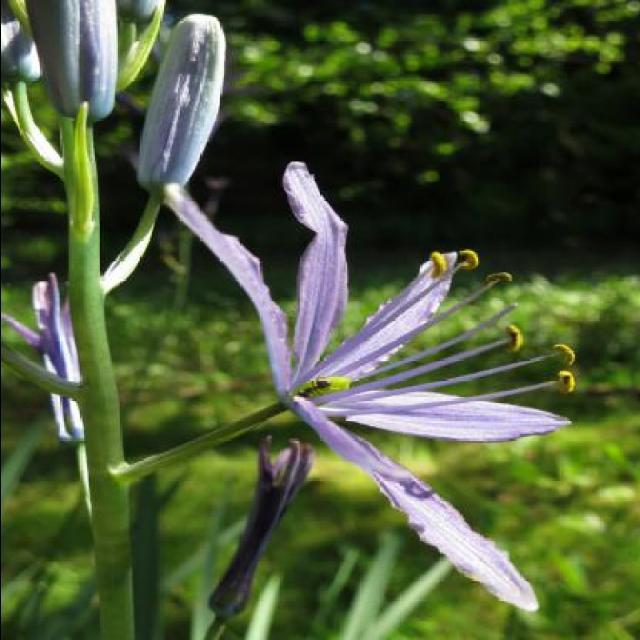Zucchini: (132, 9, 230, 205)
